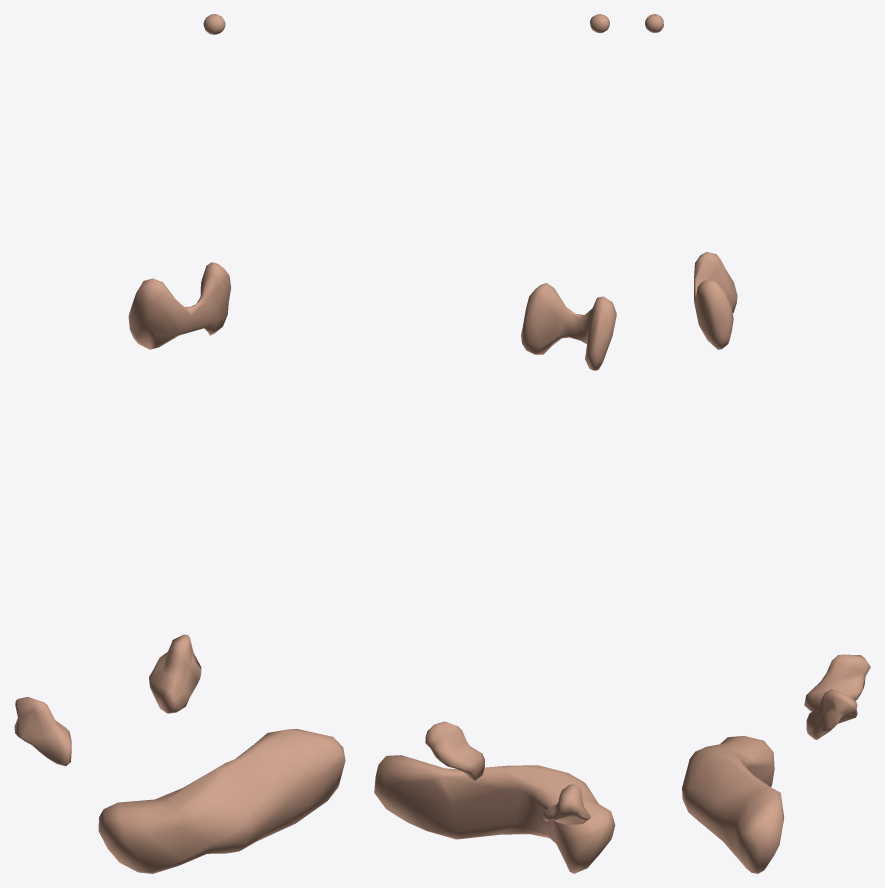
Rendered from pediatric_child_10y_male.endocrine.LOD2.glb.
3 views of the same model, side by side, from view 1: azimuth 30°, elevation 25°; view 2: azimuth 150°, elevation 25°; view 3: azimuth 270°, elevation 25° (orthographic). The views are drawn at different scales.
Visible parts, largest first — view 1: PEDIATRIC.CHILD_10Y.MALE.ENDOCRINE.PANCREAS, PEDIATRIC.CHILD_10Y.MALE.ENDOCRINE.THYROID, PEDIATRIC.CHILD_10Y.MALE.ENDOCRINE.ADRENAL.L, PEDIATRIC.CHILD_10Y.MALE.ENDOCRINE.ADRENAL.R; view 2: PEDIATRIC.CHILD_10Y.MALE.ENDOCRINE.PANCREAS, PEDIATRIC.CHILD_10Y.MALE.ENDOCRINE.THYROID, PEDIATRIC.CHILD_10Y.MALE.ENDOCRINE.ADRENAL.L, PEDIATRIC.CHILD_10Y.MALE.ENDOCRINE.ADRENAL.R; view 3: PEDIATRIC.CHILD_10Y.MALE.ENDOCRINE.PANCREAS, PEDIATRIC.CHILD_10Y.MALE.ENDOCRINE.THYROID, PEDIATRIC.CHILD_10Y.MALE.ENDOCRINE.ADRENAL.R, PEDIATRIC.CHILD_10Y.MALE.ENDOCRINE.ADRENAL.L.
Boxes of the visible parts, box(x1,y1,x2,y2) form: PEDIATRIC.CHILD_10Y.MALE.ENDOCRINE.PANCREAS: box(98, 729, 345, 873); PEDIATRIC.CHILD_10Y.MALE.ENDOCRINE.THYROID: box(128, 262, 231, 349); PEDIATRIC.CHILD_10Y.MALE.ENDOCRINE.ADRENAL.L: box(149, 634, 201, 713); PEDIATRIC.CHILD_10Y.MALE.ENDOCRINE.ADRENAL.R: box(14, 697, 71, 766); PEDIATRIC.CHILD_10Y.MALE.ENDOCRINE.PANCREAS: box(374, 755, 615, 873); PEDIATRIC.CHILD_10Y.MALE.ENDOCRINE.THYROID: box(521, 283, 616, 370); PEDIATRIC.CHILD_10Y.MALE.ENDOCRINE.ADRENAL.L: box(425, 721, 484, 780); PEDIATRIC.CHILD_10Y.MALE.ENDOCRINE.ADRENAL.R: box(543, 784, 590, 825); PEDIATRIC.CHILD_10Y.MALE.ENDOCRINE.PANCREAS: box(682, 736, 784, 873); PEDIATRIC.CHILD_10Y.MALE.ENDOCRINE.THYROID: box(694, 251, 737, 349); PEDIATRIC.CHILD_10Y.MALE.ENDOCRINE.ADRENAL.R: box(804, 654, 870, 711); PEDIATRIC.CHILD_10Y.MALE.ENDOCRINE.ADRENAL.L: box(806, 689, 857, 739).
Size of the model in its own units: 0.1336 by 0.4039 by 0.1034.
